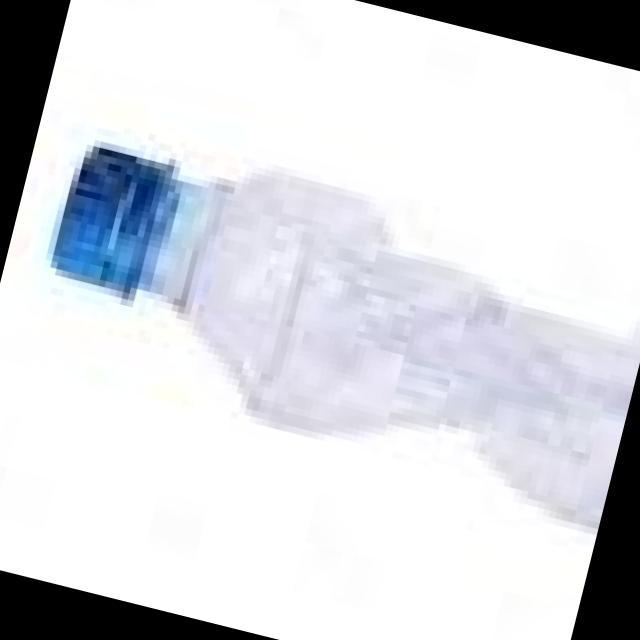defected: (1, 116, 640, 551)
